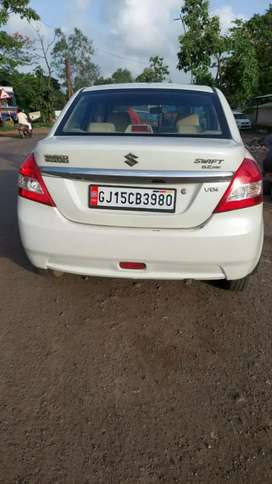GJ15CB3980: (89, 185, 176, 210)
